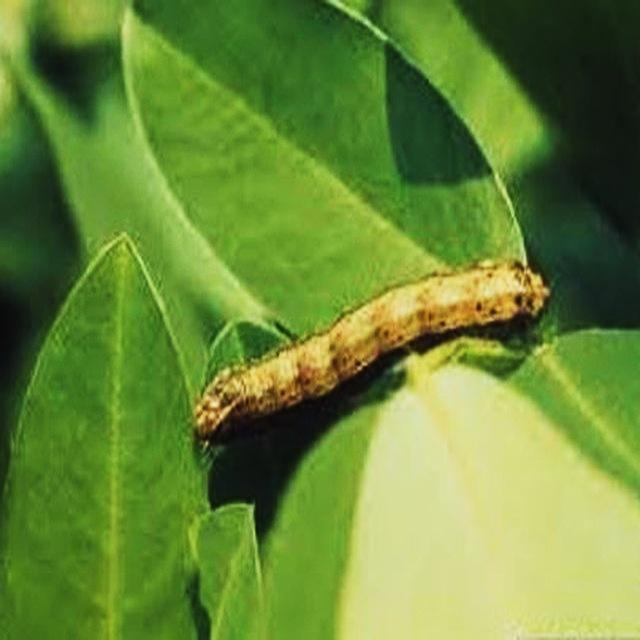Plaga: (192, 255, 554, 449)
